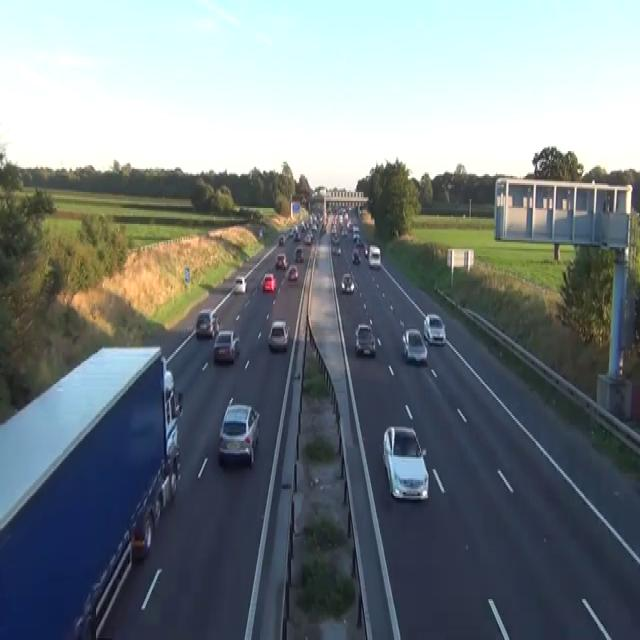Car: (130, 453, 180, 560), (382, 425, 429, 501), (218, 402, 260, 468), (402, 327, 427, 365), (212, 329, 239, 363), (164, 370, 182, 420), (423, 313, 446, 345), (195, 308, 219, 338), (354, 324, 375, 356), (267, 320, 289, 350), (260, 272, 276, 292), (340, 272, 354, 293), (368, 244, 380, 268), (233, 276, 247, 294), (275, 252, 287, 268), (287, 265, 298, 281), (212, 315, 220, 334), (351, 247, 360, 263), (294, 247, 303, 261), (352, 233, 361, 243), (278, 235, 286, 245), (304, 233, 312, 243), (331, 233, 339, 243), (332, 246, 341, 254), (363, 244, 368, 258), (293, 231, 300, 240), (347, 219, 353, 229), (320, 224, 326, 233), (300, 196, 306, 204), (287, 230, 293, 238), (341, 228, 347, 236), (353, 224, 359, 231), (258, 228, 262, 238)
Truck: (0, 343, 182, 638)
